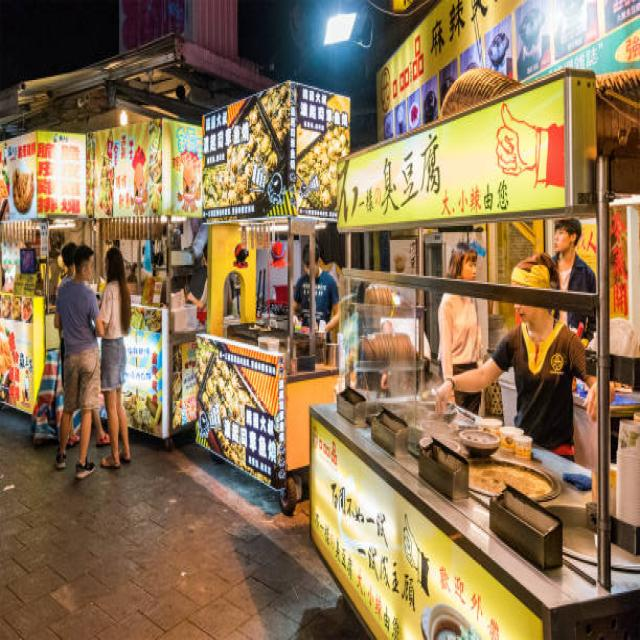Emperan: (301, 74, 640, 640), (190, 77, 356, 540), (87, 118, 208, 466), (0, 122, 88, 456)
